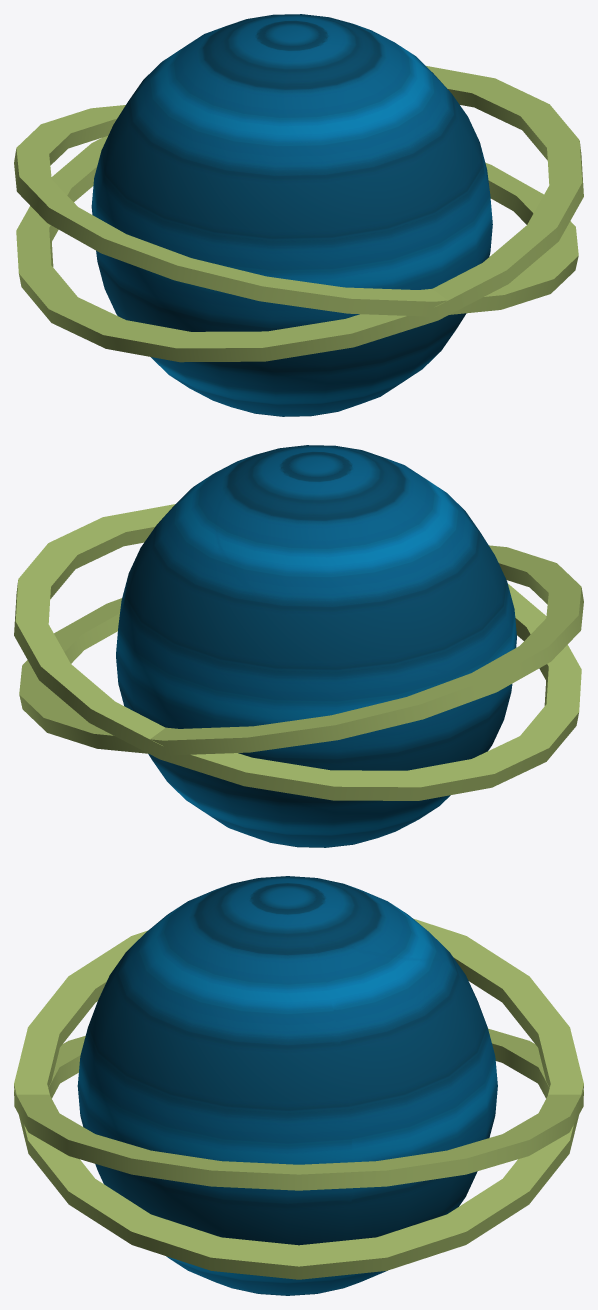
File: Planeet 2 (blauw met ringen).fbx
3 views of the same model, one above another, from view 1: azimuth 30°, elevation 25°; view 2: azimuth 150°, elevation 25°; view 3: azimuth 270°, elevation 25° (orthographic). The views are drawn at different scales.
Parts seen in each view (by area): view 1: ringen_2, ringen1; view 2: ringen_2, ringen1; view 3: ringen_2, ringen1.
Part boxes in pixels (x1,y1,x2,y2): ringen_2: (91,14,492,416); ringen1: (14,66,583,362); ringen_2: (116,445,516,847); ringen1: (14,504,583,800); ringen_2: (77,876,497,1295); ringen1: (14,918,583,1279).
Size of the model in its own units: 144 by 100 by 136.
2 materials, 1 textured.
